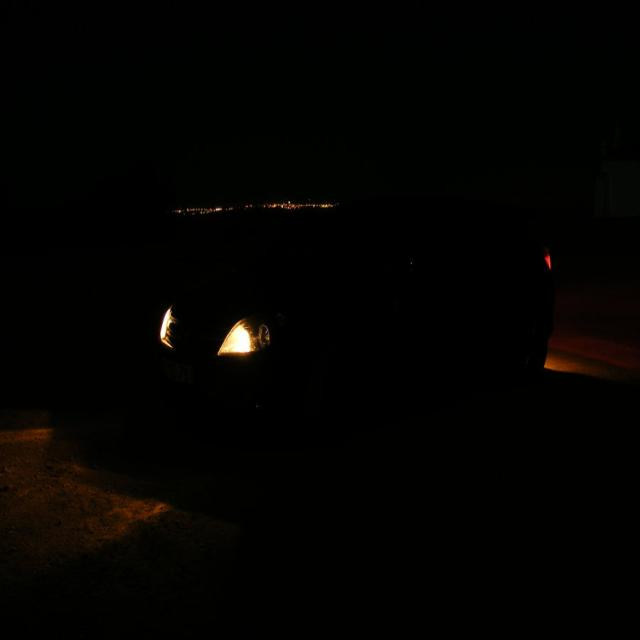car: (82, 168, 583, 464)
